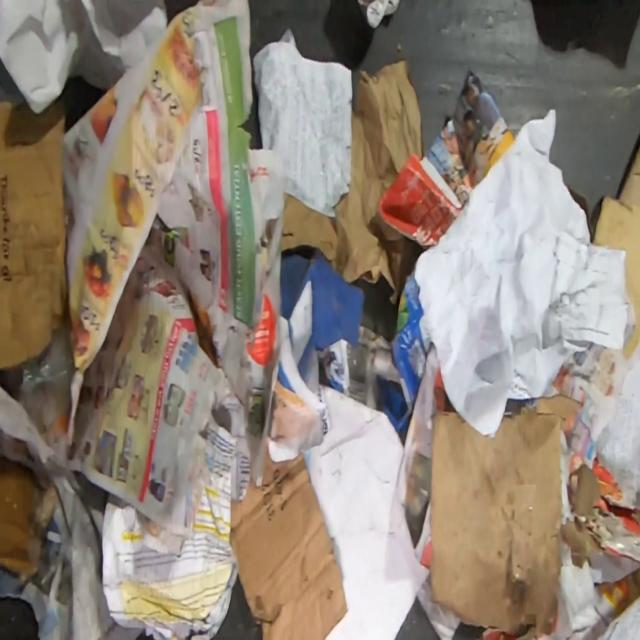cardboard: (429, 401, 562, 638), (230, 447, 347, 640), (0, 90, 70, 371), (281, 248, 364, 397), (561, 451, 640, 583)
soft_plastic: (16, 331, 75, 464)
